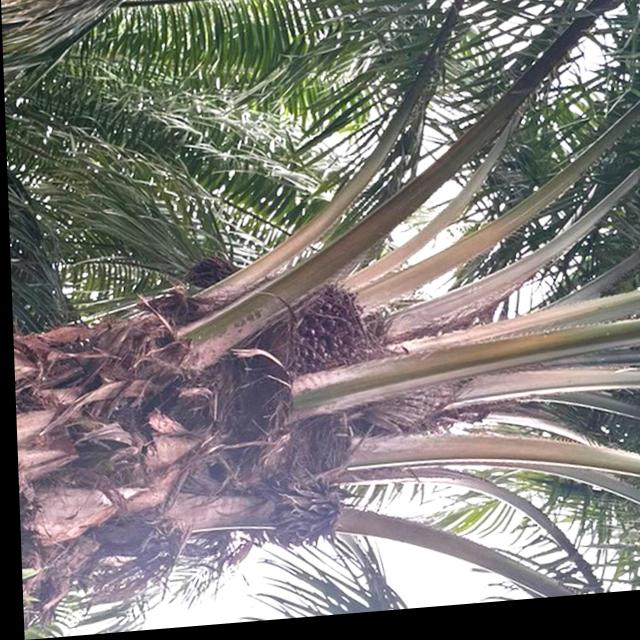ripe: (276, 290, 373, 384)
